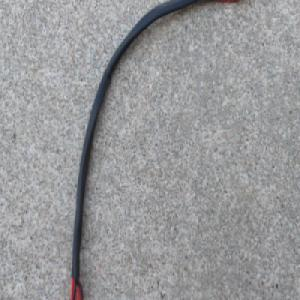Wire: (67, 0, 238, 300)
